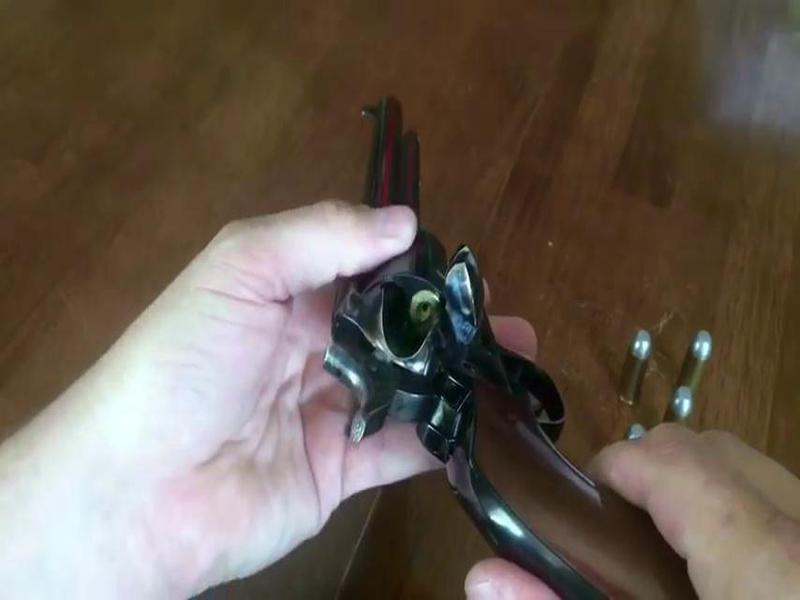Revolver: (309, 79, 621, 555)
